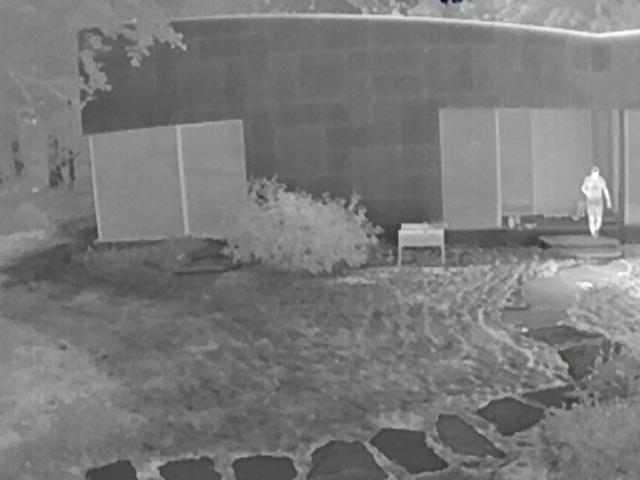person: (582, 167, 611, 239)
